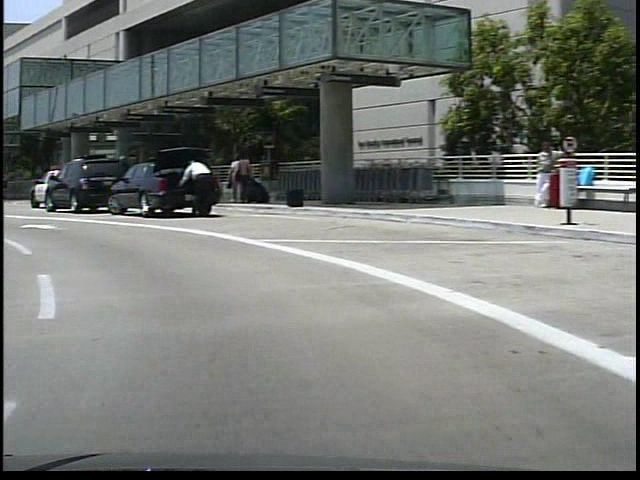person: (173, 159, 214, 224), (230, 154, 250, 209), (221, 154, 239, 208)
